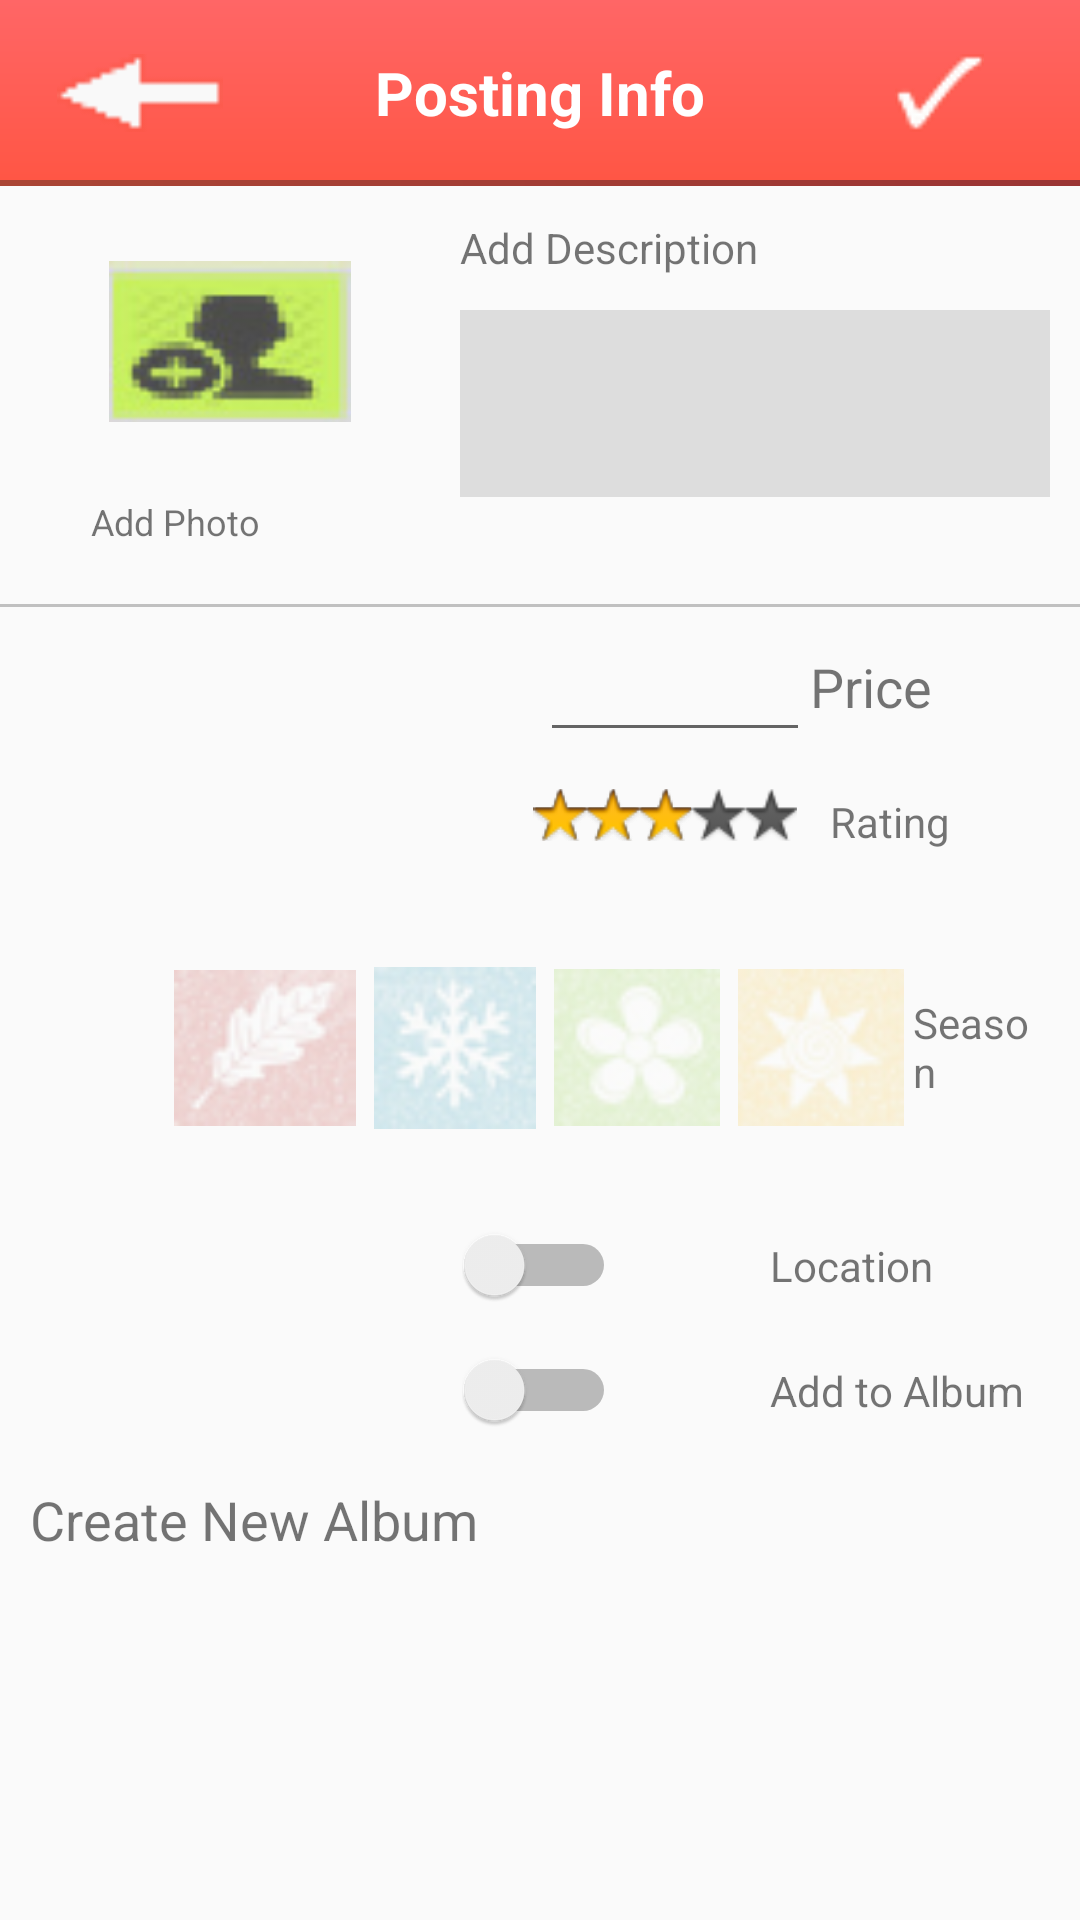

Where icons sit on this 1080x1920 app screen, as bbox=(x1, y1, x2, y2):
arrow: bbox=(54, 54, 226, 132)
automn: bbox=(174, 970, 356, 1126)
check: bbox=(897, 56, 982, 129)
spring: bbox=(554, 969, 720, 1126)
summer: bbox=(738, 969, 904, 1126)
winter: bbox=(374, 967, 536, 1129)
